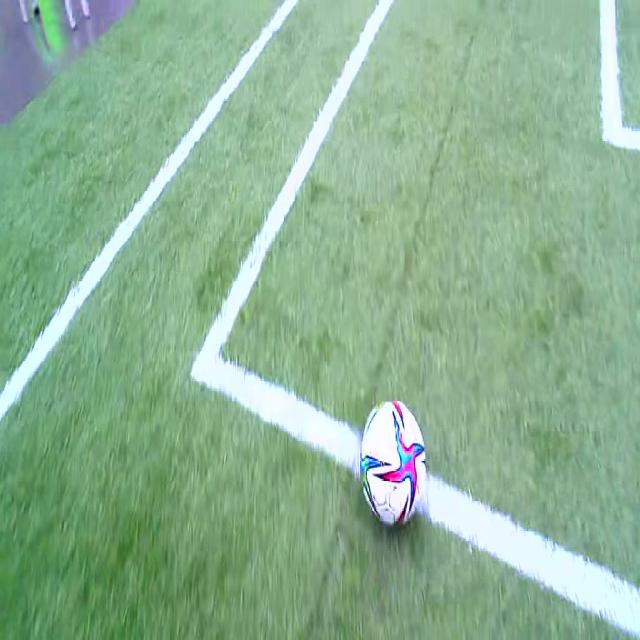ball: (361, 402, 426, 526)
